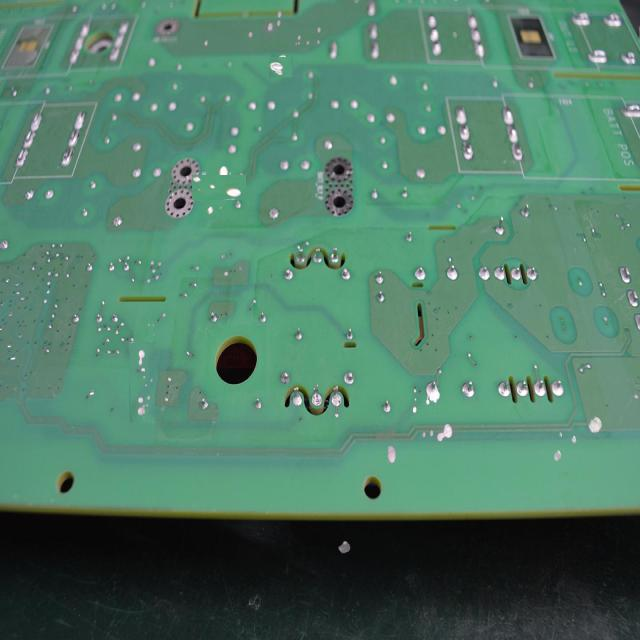spillover: (129, 342, 155, 423), (198, 167, 239, 208), (421, 420, 456, 448), (270, 55, 293, 78)
